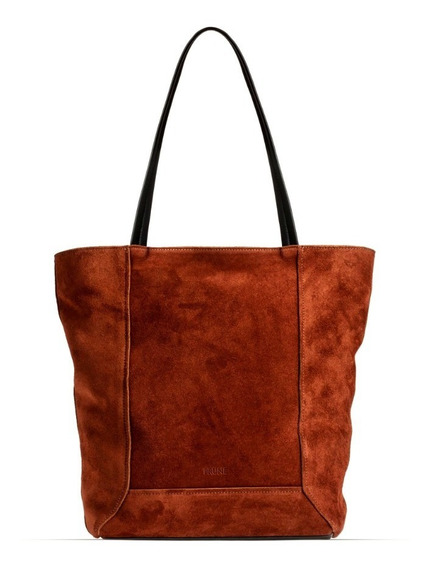cartera: (52, 24, 376, 540)
